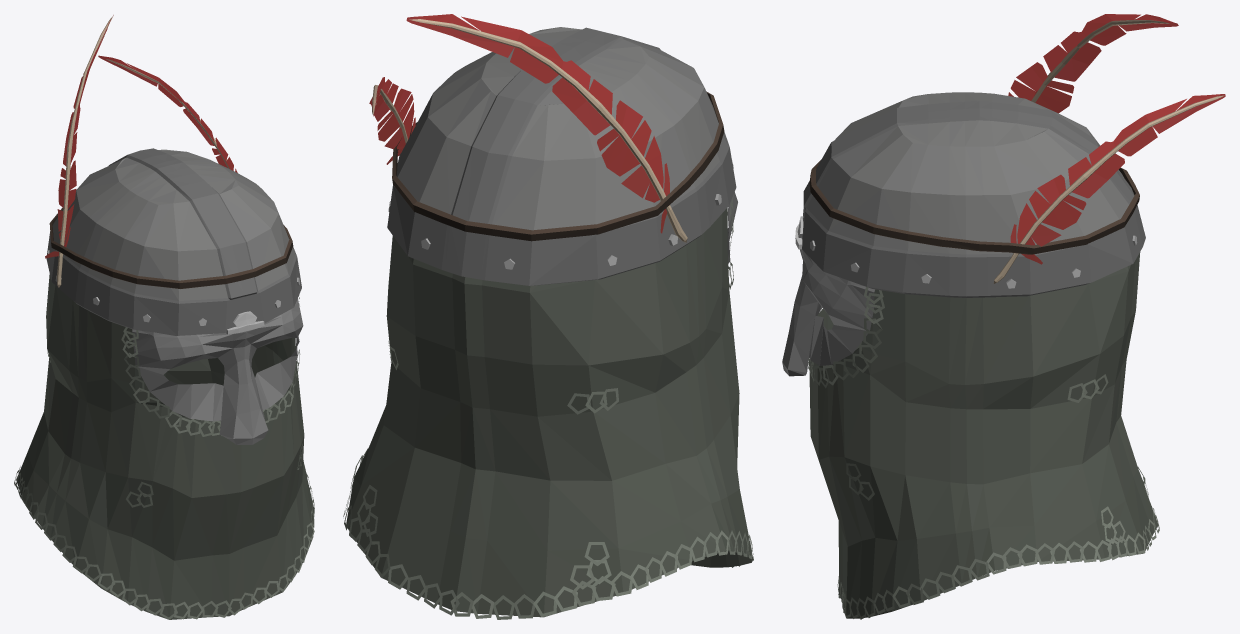
The model's file is chainmailHelmetClosed.glb.
The picture shows the model from 3 angles, left to right: view 1: azimuth 30°, elevation 25°; view 2: azimuth 150°, elevation 25°; view 3: azimuth 270°, elevation 25°; orthographic projection. The views are drawn at different scales.
Visible parts, largest first — view 1: chainmailHelmetClosed; view 2: chainmailHelmetClosed; view 3: chainmailHelmetClosed.
Boxes of the visible parts, x1=… form: chainmailHelmetClosed: x1=14, y1=15, x2=314, y2=619; chainmailHelmetClosed: x1=343, y1=14, x2=753, y2=619; chainmailHelmetClosed: x1=782, y1=14, x2=1225, y2=619.
Size of the model in its own units: 0.3399 by 0.6094 by 0.4172.
